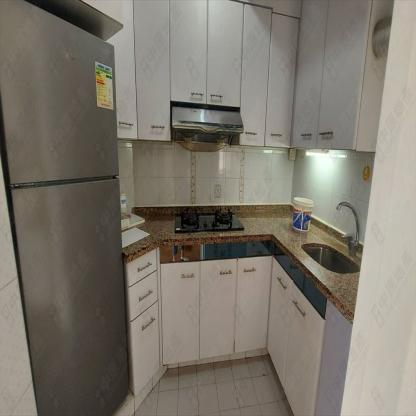Cupboard: (124, 0, 371, 152), (126, 239, 329, 415)
Exhaust Hood: (171, 106, 244, 153)
Faucet: (335, 199, 360, 251)
Sink: (300, 241, 360, 273)
Stove: (173, 207, 244, 231)
